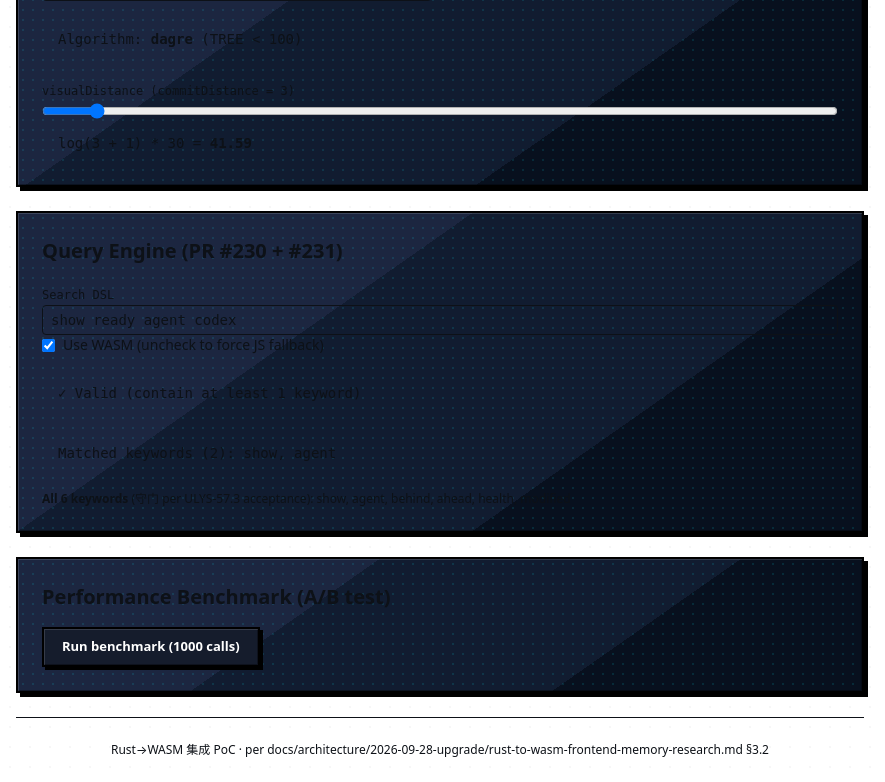
Test case: WasmDemoPage › benchmark button click → show result
This screenshot has width=885, height=782.
(page scrolled)
Click the button with test id "wasm-demo-benchmark" at (151, 647), box [42,627,260,667]
(page scrolled)
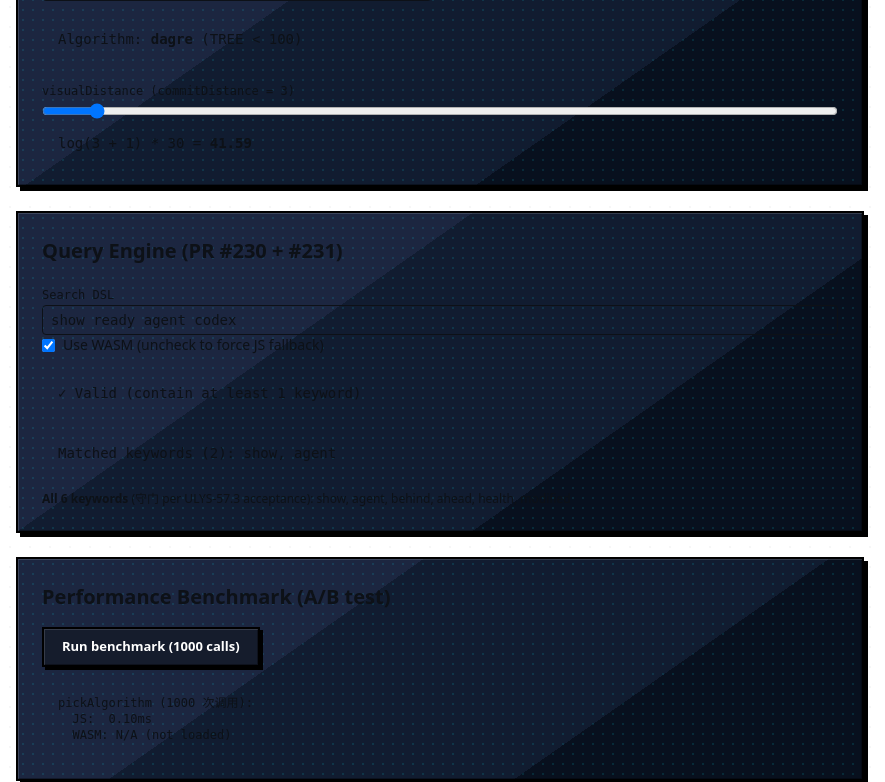
Expected: the text "pickAlgorithm (1000 次调用): JS: 0.10ms WASM: N/A (not loaded)" is shown, [58,696,253,742]
